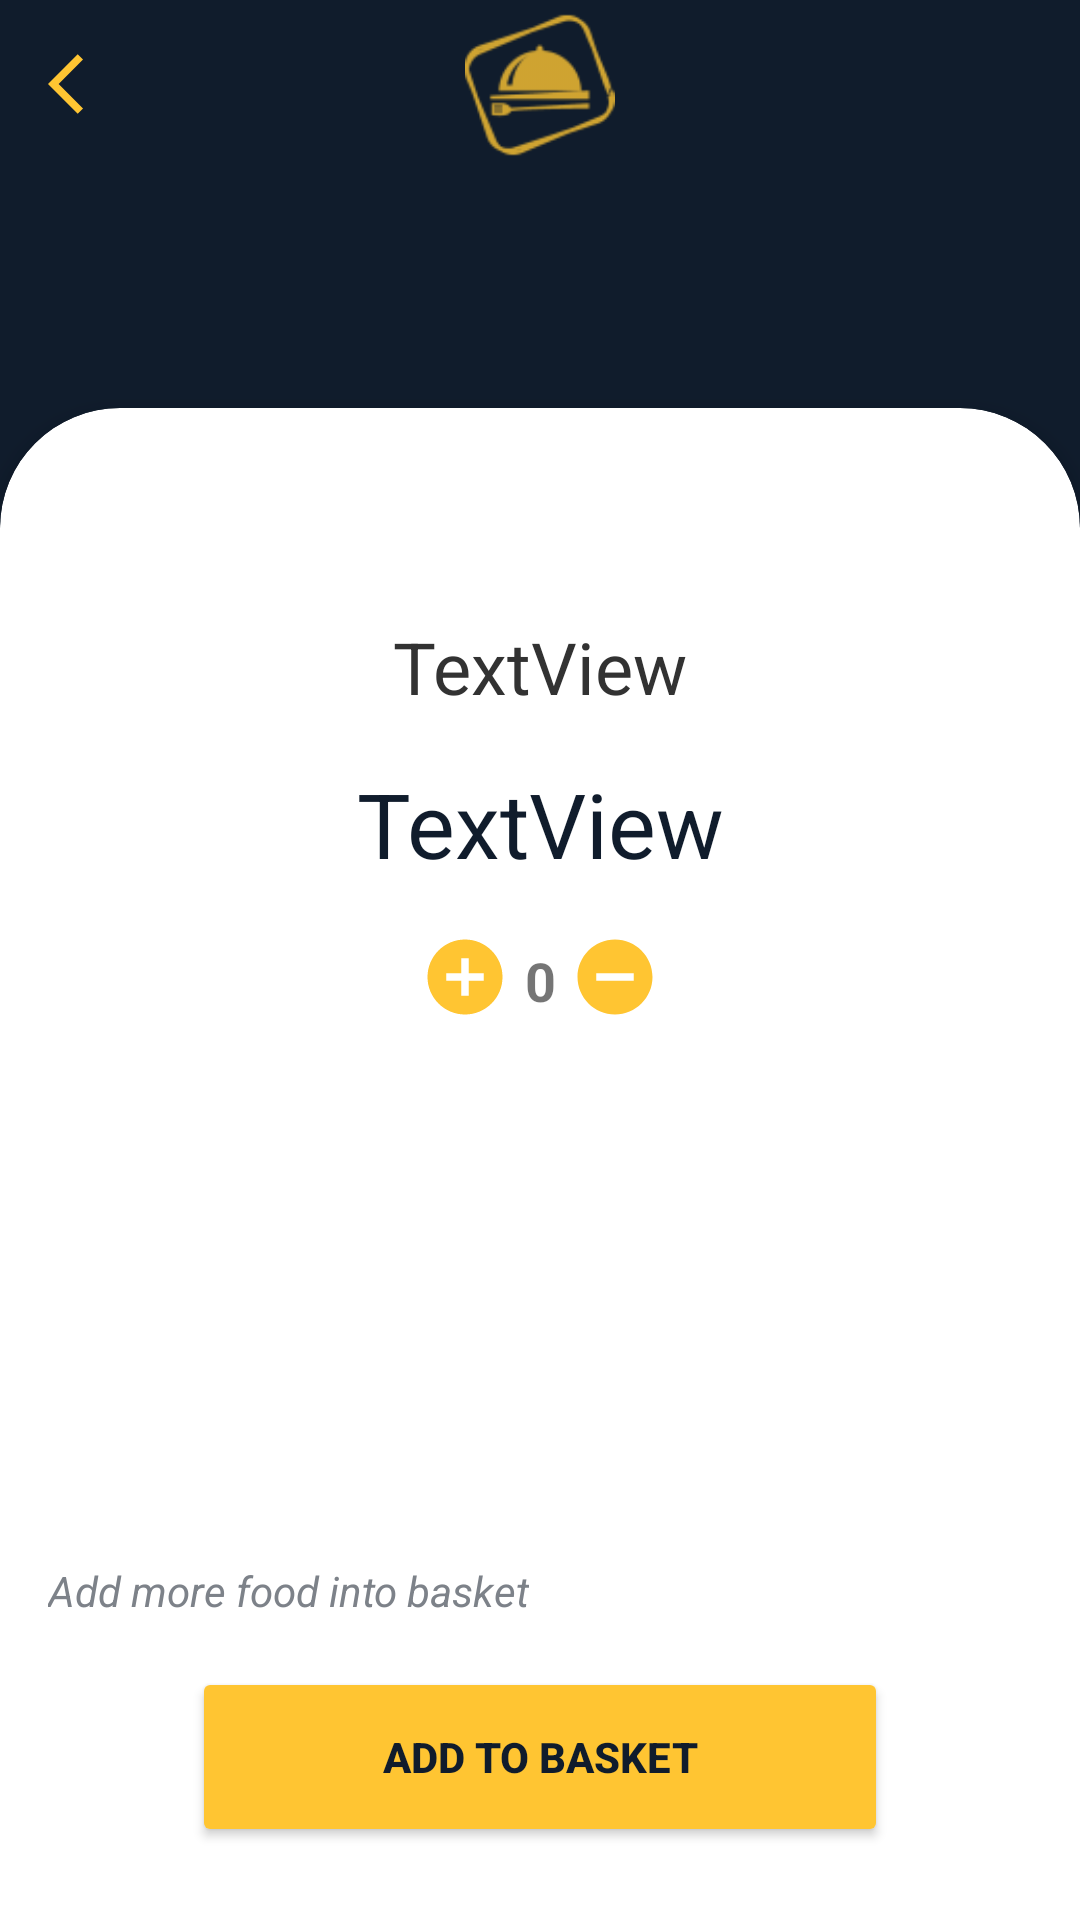

Icons on this 1080 × 1920 Android screen, each with the point to tap as point (x, y):
add buton: point (465, 977)
minus: point (615, 977)
